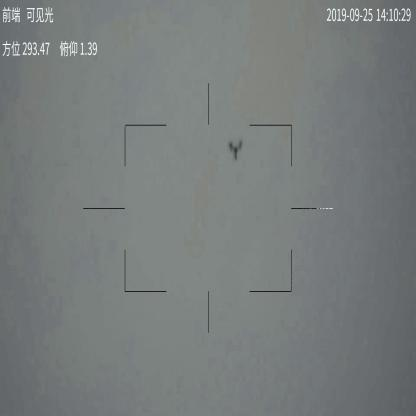uav: (228, 138, 245, 162)
